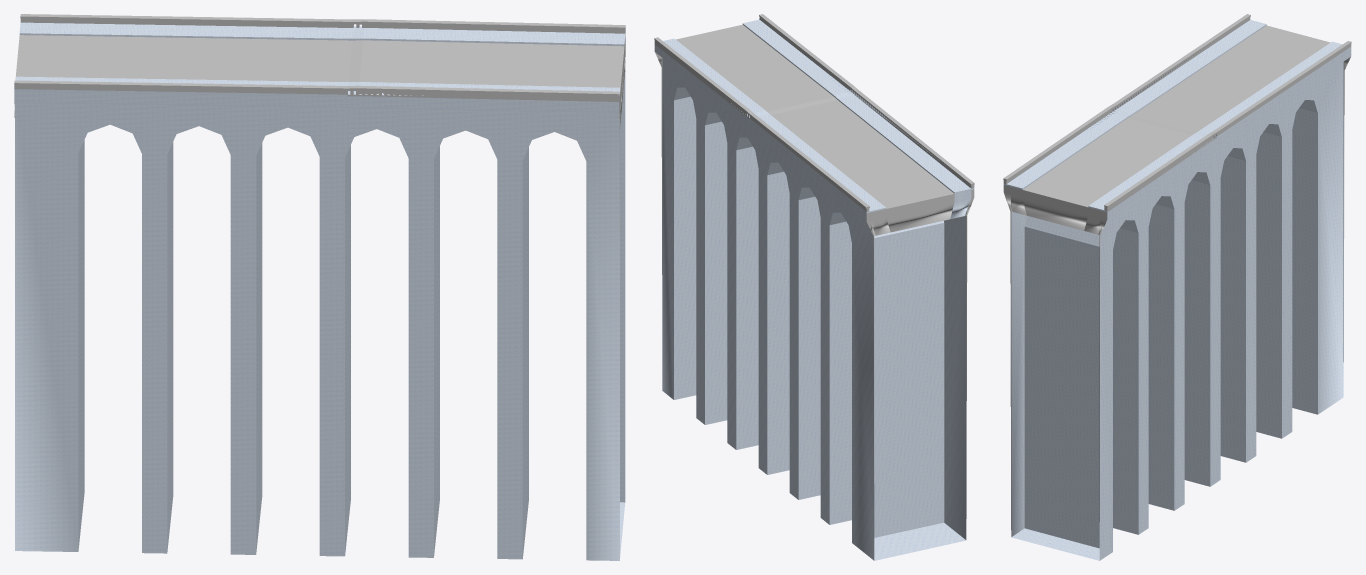
Rendered from FortBridge.fbx.
3 renders of one model, left to right at view 1: azimuth 30°, elevation 25°; view 2: azimuth 150°, elevation 25°; view 3: azimuth 270°, elevation 25°, orthographic. The views are drawn at different scales.
Parts seen in each view (by area): view 1: FortBridgev2; view 2: FortBridgev2; view 3: FortBridgev2.
Boxes of the visible parts, bbox=[...] form: FortBridgev2: bbox=[14, 14, 625, 560]; FortBridgev2: bbox=[654, 14, 974, 560]; FortBridgev2: bbox=[1003, 14, 1351, 560].
Bounding box in the file's own units: 10888 × 9494 × 8379.
